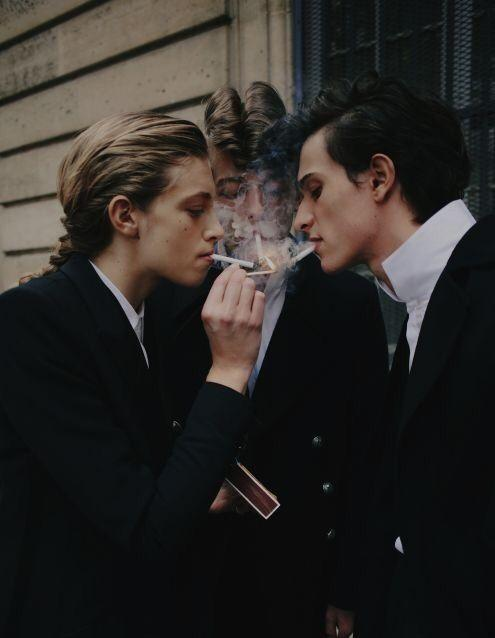cigarette: (289, 242, 318, 266), (208, 254, 254, 269), (255, 232, 263, 264)
